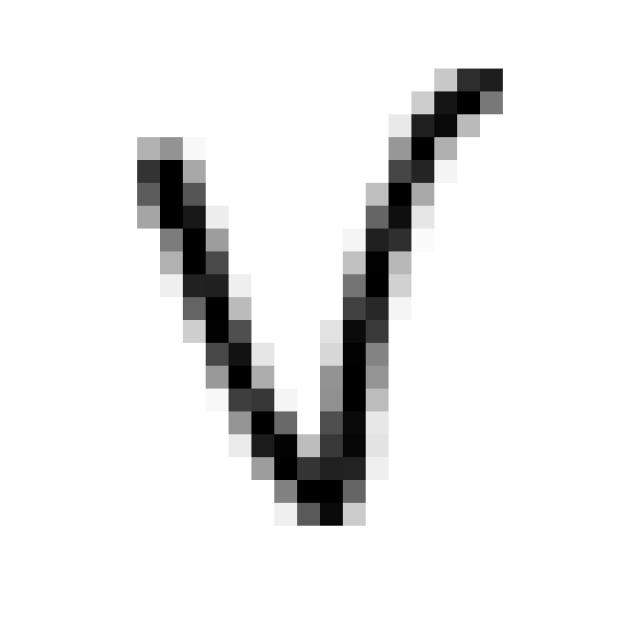7 -seven-: (121, 53, 519, 541)
